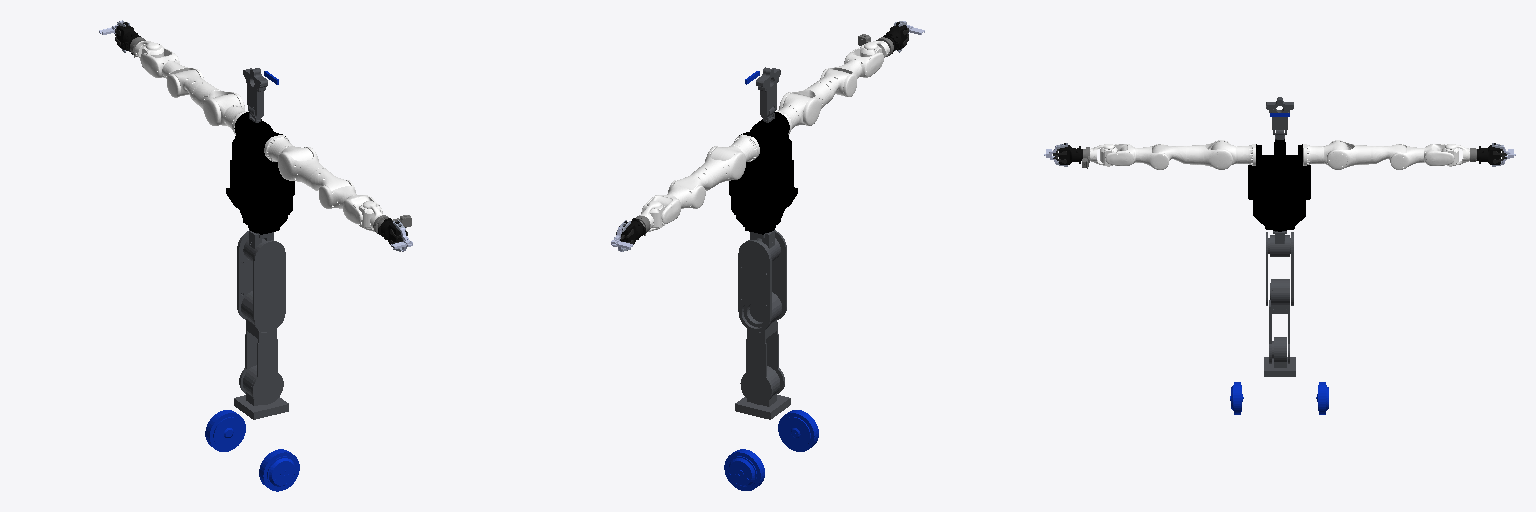
--- What the picture shows (computed from the rendered views, not written in the file) ---
3 views of the same robot in one strip: view 1: azimuth 30°, elevation 25°; view 2: azimuth 150°, elevation 25°; view 3: azimuth 270°, elevation 25° (orthographic).
Robot: robot_model — 57 links, 56 joints (33 revolute, 2 prismatic, 21 fixed); root link world; default pose: every joint at zero.
Visible links, largest first — view 1: Trunk_Link4, Trunk_Link2, Trunk_Link1, chassis_right_Link, chassis_left_Link, trunk_base_link, AR5_5_07R_link2, AR5_5_07L_link2, Head_Link2, AR5_5_07R_link4, AR5_5_07L_link5, AR5_5_07L_link4 (+2 smaller); view 2: Trunk_Link4, Trunk_Link2, Trunk_Link1, chassis_right_Link, chassis_left_Link, trunk_base_link, AR5_5_07L_link2, AR5_5_07R_link2, Head_Link2, AR5_5_07L_link4, AR5_5_07R_link5, AR5_5_07R_link4 (+2 smaller); view 3: Trunk_Link4, Trunk_Link1, AR5_5_07L_link2, AR5_5_07R_link2, trunk_base_link, AR5_5_07L_link4, AR5_5_07R_link4, AR5_5_07R_link5, AR5_5_07L_link5.
Link boxes in pixels (left/top/right/bottom): Trunk_Link4: left=226, top=112, right=294, bottom=234; Trunk_Link2: left=237, top=231, right=285, bottom=331; Trunk_Link1: left=239, top=291, right=283, bottom=404; chassis_right_Link: left=259, top=449, right=299, bottom=491; chassis_left_Link: left=205, top=410, right=245, bottom=451; trunk_base_link: left=234, top=365, right=288, bottom=419; AR5_5_07R_link2: left=278, top=147, right=325, bottom=187; AR5_5_07L_link2: left=192, top=82, right=244, bottom=125; Head_Link2: left=243, top=68, right=267, bottom=118; AR5_5_07R_link4: left=319, top=180, right=356, bottom=208; AR5_5_07L_link5: left=140, top=48, right=179, bottom=77; AR5_5_07L_link4: left=162, top=60, right=203, bottom=97; Trunk_Link4: left=729, top=112, right=797, bottom=234; Trunk_Link2: left=738, top=230, right=786, bottom=331; Trunk_Link1: left=740, top=292, right=784, bottom=404; chassis_right_Link: left=778, top=410, right=818, bottom=451; chassis_left_Link: left=724, top=449, right=764, bottom=490; trunk_base_link: left=735, top=366, right=790, bottom=419; AR5_5_07L_link2: left=698, top=146, right=745, bottom=187; AR5_5_07R_link2: left=779, top=82, right=831, bottom=125; Head_Link2: left=756, top=67, right=780, bottom=117; AR5_5_07L_link4: left=667, top=180, right=705, bottom=208; AR5_5_07R_link5: left=844, top=48, right=883, bottom=77; AR5_5_07R_link4: left=820, top=61, right=861, bottom=96; Trunk_Link4: left=1248, top=139, right=1310, bottom=231; Trunk_Link1: left=1269, top=279, right=1289, bottom=363; AR5_5_07L_link2: left=1327, top=140, right=1372, bottom=169; AR5_5_07R_link2: left=1187, top=140, right=1232, bottom=169; trunk_base_link: left=1264, top=337, right=1295, bottom=376; AR5_5_07L_link4: left=1390, top=144, right=1425, bottom=169; AR5_5_07R_link4: left=1134, top=144, right=1168, bottom=169; AR5_5_07R_link5: left=1105, top=144, right=1135, bottom=165; AR5_5_07L_link5: left=1424, top=144, right=1454, bottom=165.
Size in the robot's own frame: 0.248 by 2.39 by 1.77 metres.
Meshes: 41 distinct files referenced, 45 mesh visuals loaded (35 binary STL, 1 Collada DAE); not drawn: 5 (reference not matched to a file when rendering).

URDF robot description (robot_model):
<?xml version="1.0"?>
<!-- This URDF was automatically created by SolidWorks to URDF Exporter! Originally created by Stephen Brawner ([email redacted]) 
     Commit Version: 1.6.0-4-g7f85cfe  Build Version: 1.6.7995.38578
     For more information, please see http://wiki.ros.org/sw_urdf_exporter -->

<robot
  name="robot_model">
  <gazebo>
    <plugin name="gazebo_ros_control" filename="libgazebo_ros_control.so">
      <robotNamespace>/</robotNamespace>
    </plugin>
  </gazebo>
  
  <!-- Material definitions -->
  <material name="orange">
    <color rgba="0.5 0.0 0.5 1.0"/>
  </material>
  <material name="chassis_silver">
    <color rgba="0.78 0.80 0.82 1.0"/> 
  </material>
  <material name="body_color">
    <color rgba="0.50 0.60 0.10 1.0"/> 
  </material>
  <material name="metal_dark">
    <color rgba="0.35 0.36 0.38 1.0"/> 
  </material>
  <material name="mat_black">
    <color rgba="0.05 0.05 0.06 1.0"/> 
  </material>
  <material name="accent_blue">
    <color rgba="0.06 0.24 0.80 1.0"/> 
  </material>
  <material name="white">
    <color rgba="1.0 1.0 1.0 1.0"/>
  </material>

  <!-- ============================================================ -->
  <!-- Virtual Mobile Base Joints -->
  <!-- These joints allow the robot chassis to move in the XY plane -->
  <!-- and rotate around the Z axis (yaw) relative to the world frame -->
  <!-- ============================================================ -->
  
  <link name="world"/>
  
  <!-- Virtual link for X translation -->
  <link name="virtual_x_link">
    <inertial>
      <origin xyz="0 0 0" rpy="0 0 0"/>
      <mass value="0.001"/>
      <inertia ixx="0.0001" ixy="0" ixz="0" iyy="0.0001" iyz="0" izz="0.0001"/>
    </inertial>
  </link>
  
  <!-- Virtual link for Y translation -->
  <link name="virtual_y_link">
    <inertial>
      <origin xyz="0 0 0" rpy="0 0 0"/>
      <mass value="0.001"/>
      <inertia ixx="0.0001" ixy="0" ixz="0" iyy="0.0001" iyz="0" izz="0.0001"/>
    </inertial>
  </link>
  
  <!-- Virtual link for Yaw rotation -->
  <link name="virtual_yaw_link">
    <inertial>
      <origin xyz="0 0 0" rpy="0 0 0"/>
      <mass value="0.001"/>
      <inertia ixx="0.0001" ixy="0" ixz="0" iyy="0.0001" iyz="0" izz="0.0001"/>
    </inertial>
  </link>
  
  <!-- Joint 1: world -> virtual_x_link (X translation) -->
  <joint name="virtual_x_joint" type="prismatic">
    <parent link="world"/>
    <child link="virtual_x_link"/>
    <origin xyz="0 0 0" rpy="0 0 0"/>
    <axis xyz="1 0 0"/>
    <limit lower="-100" upper="100" effort="1000" velocity="10"/>
  </joint>
  
  <!-- Joint 2: virtual_x_link -> virtual_y_link (Y translation) -->
  <joint name="virtual_y_joint" type="prismatic">
    <parent link="virtual_x_link"/>
    <child link="virtual_y_link"/>
    <origin xyz="0 0 0" rpy="0 0 0"/>
    <axis xyz="0 1 0"/>
    <limit lower="-100" upper="100" effort="1000" velocity="10"/>
  </joint>
  
  <!-- Joint 3: virtual_y_link -> virtual_yaw_link (Yaw rotation) -->
  <joint name="virtual_yaw_joint" type="revolute">
    <parent link="virtual_y_link"/>
    <child link="virtual_yaw_link"/>
    <origin xyz="0 0 0.265" rpy="0 0 0"/>
    <axis xyz="0 0 1"/>
    <limit lower="-3.14159" upper="3.14159" effort="1000" velocity="3.14"/>
  </joint>
  
  <!-- Fixed joint from virtual_yaw_link to chassis_base_link -->
  <joint name="chassis_base_joint" type="fixed">
    <parent link="virtual_yaw_link"/>
    <child link="chassis_base_link"/>
    <origin xyz="0 0 0" rpy="0 0 0"/>
  </joint>
  
  <link
    name="chassis_base_link">
    <inertial>
      <origin
        xyz="-0.027237 -0.00044706 -0.13065"
        rpy="0 0 0" />
      <mass
        value="18.789" />
      <inertia
        ixx="0.32103"
        ixy="-0.00088596"
        ixz="0.0070426"
        iyy="0.35279"
        iyz="0.00010881"
        izz="0.63543" />
    </inertial>
    <visual>
      <origin
        xyz="0 0 0"
        rpy="0 0 0" />
      <geometry>
        <mesh
          filename="package://robot_model/meshes/chassis_base_link.STL" />
      </geometry>
      <material name="mat_black"/>
    </visual>
    <collision>
      <origin
        xyz="0 0 0"
        rpy="0 0 0" />
      <geometry>
        <mesh
          filename="package://robot_model/meshes/chassis_base_link.STL" />
      </geometry>
    </collision>
  </link>
  <link
    name="chassis_left_Link">
    <inertial>
      <origin
        xyz="4.996E-16 0.033322 0"
        rpy="0 0 0" />
      <mass
        value="2.8637" />
      <inertia
        ixx="0.0051541"
        ixy="-3.3608E-17"
        ixz="-1.1703E-17"
        iyy="0.0090798"
        iyz="-5.0051E-18"
        izz="0.0051541" />
    </inertial>
    <visual>
      <origin
        xyz="0 0 0"
        rpy="0 0 0" />
      <geometry>
        <mesh
          filename="package://robot_model/meshes/chassis_left_Link.STL" />
      </geometry>
      <material name="accent_blue"/>
    </visual>
    <collision>
      <origin
        xyz="0 0 0"
        rpy="0 0 0" />
      <geometry>
        <mesh
          filename="package://robot_model/meshes/chassis_left_Link.STL" />
      </geometry>
    </collision>
  </link>
  <joint
    name="chassis_left_Joint"
    type="fixed">
    <origin
      xyz="-0.041 0.1846 -0.1775"
      rpy="0 0 0" />
    <parent
      link="chassis_base_link" />
    <child
      link="chassis_left_Link" />
    <axis
      xyz="0 -1 0" />
  </joint>
  <link
    name="chassis_right_Link">
    <inertial>
      <origin
        xyz="-5.2736E-16 -0.033322 1.1102E-16"
        rpy="0 0 0" />
      <mass
        value="2.8637" />
      <inertia
        ixx="0.0051541"
        ixy="-3.3734E-17"
        ixz="1.0772E-17"
        iyy="0.0090798"
        iyz="5.0454E-18"
        izz="0.0051541" />
    </inertial>
    <visual>
      <origin
        xyz="0 0 0"
        rpy="0 0 0" />
      <geometry>
        <mesh
          filename="package://robot_model/meshes/chassis_right_Link.STL" />
      </geometry>
      <material name="accent_blue"/>
    </visual>
    <collision>
      <origin
        xyz="0 0 0"
        rpy="0 0 0" />
      <geometry>
        <mesh
          filename="package://robot_model/meshes/chassis_right_Link.STL" />
      </geometry>
    </collision>
  </link>
  <joint
    name="chassis_right_Joint"
    type="fixed">
    <origin
      xyz="-0.041 -0.1846 -0.1775"
      rpy="0 0 0" />
    <parent
      link="chassis_base_link" />
    <child
      link="chassis_right_Link" />
    <axis
      xyz="0 1 0" />
  </joint>
  <link
    name="trunk_base_link">
    <inertial>
      <origin
        xyz="-3.32739807928917E-11 0.00108475904249383 0.0646969570751819"
        rpy="0 0 0" />
      <mass
        value="5.2916725383757" />
      <inertia
        ixx="0.0204718891237549"
        ixy="4.85115711850459E-12"
        ixz="-6.41065846332626E-12"
        iyy="0.0225397707546832"
        iyz="-0.000166583637729049"
        izz="0.014637715325779" />
    </inertial>
    <visual>
      <origin
        xyz="0 0 0"
        rpy="0 0 0" />
      <geometry>
        <mesh
          filename="package://robot_model/meshes/base_link.STL" />
      </geometry>
      <material name="metal_dark"/>
    </visual>
    <collision>
      <origin
        xyz="0 0 0"
        rpy="0 0 0" />
      <geometry>
        <mesh
          filename="package://robot_model/meshes/base_link.STL" />
      </geometry>
    </collision>
  </link>
  <joint
    name="trunk_base_link_Joint"
    type="fixed">
    <origin
      xyz="0 0 0.0"
      rpy="0 0 0" />
    <parent
      link="chassis_base_link" />
    <child
      link="trunk_base_link" />
    <axis
      xyz="0 1 0" />
  </joint>
  <link
    name="Trunk_Link1">
    <inertial>
      <origin
        xyz="-2.00192633256768E-06 0.037648370852891 0.229389705349819"
        rpy="0 0 0" />
      <mass
        value="6.12532979899165" />
      <inertia
        ixx="0.107502593877351"
        ixy="-4.33428423533899E-07"
        ixz="1.55820301705163E-06"
        iyy="0.105834274643522"
        iyz="0.000834756143947899"
        izz="0.0138000958638935" />
    </inertial>
    <visual>
      <origin
        xyz="0 0 0"
        rpy="0 0 0" />
      <geometry>
        <mesh
          filename="package://robot_model/meshes/Trunk_Link1.STL" />
      </geometry>
      <material name="metal_dark"/>
    </visual>
    <collision>
      <origin
        xyz="0 0 0"
        rpy="0 0 0" />
      <geometry>
        <mesh
          filename="package://robot_model/meshes/Trunk_Link1.STL" />
      </geometry>
    </collision>
  </link>
  <joint
    name="Trunk_Joint1"
    type="revolute">
    <origin
      xyz="0 -0.0393 0.112"
      rpy="0 0 0" />
    <parent
      link="trunk_base_link" />
    <child
      link="Trunk_Link1" />
    <axis
      xyz="0 -1 0" />
    <limit
      lower="-1.57"
      upper="1.57"
      effort="300"
      velocity="15" />
    <dynamics
      damping="0.01"
      friction="0.1" />
  </joint>
  <link
    name="Trunk_Link2">
    <inertial>
      <origin
        xyz="6.93889390390723E-17 0.0527983940700079 0.181464564928581"
        rpy="0 0 0" />
      <mass
        value="4.75279692361668" />
      <inertia
        ixx="0.0610885753910733"
        ixy="-1.19536966653269E-18"
        ixz="-7.76730748312509E-18"
        iyy="0.0529989544087246"
        iyz="-0.00179309730212265"
        izz="0.0201482952717101" />
    </inertial>
    <visual>
      <origin
        xyz="0 0 0"
        rpy="0 0 0" />
      <geometry>
        <mesh
          filename="package://robot_model/meshes/Trunk_Link2.STL" />
      </geometry>
      <material name="metal_dark"/>
    </visual>
    <collision>
      <origin
        xyz="0 0 0"
        rpy="0 0 0" />
      <geometry>
        <mesh
          filename="package://robot_model/meshes/Trunk_Link2.STL" />
      </geometry>
    </collision>
  </link>
  <joint
    name="Trunk_Joint2"
    type="revolute">
    <origin
      xyz="0 -0.013 0.327"
      rpy="0 0 0" />
    <parent
      link="Trunk_Link1" />
    <child
      link="Trunk_Link2" />
    <axis
      xyz="0 1 0" />
    <limit
      lower="-1.57"
      upper="1.57"
      effort="300"
      velocity="15" />
    <dynamics
      damping="0.01"
      friction="0.1" />
  </joint>
  <link
    name="Trunk_Link3">
    <inertial>
      <origin
        xyz="1.69489079715479E-09 -0.0494999971490837 0.0299182901675204"
        rpy="0 0 0" />
      <mass
        value="1.40110394589238" />
      <inertia
        ixx="0.0039279902713771"
        ixy="-9.37102716068198E-12"
        ixz="1.60664128414939E-11"
        iyy="0.00456822897709997"
        iyz="-9.20676483539881E-11"
        izz="0.00233089385500014" />
    </inertial>
    <visual>
      <origin
        xyz="0 0 0"
        rpy="0 0 0" />
      <geometry>
        <mesh
          filename="package://robot_model/meshes/Trunk_Link3.STL" />
      </geometry>
      <material name="metal_dark"/>
    </visual>
    <collision>
      <origin
        xyz="0 0 0"
        rpy="0 0 0" />
      <geometry>
        <mesh
          filename="package://robot_model/meshes/Trunk_Link3.STL" />
      </geometry>
    </collision>
  </link>
  <joint
    name="Trunk_Joint3"
    type="revolute">
    <origin
      xyz="0 0.1018 0.255"
      rpy="0 0 0" />
    <parent
      link="Trunk_Link2" />
    <child
      link="Trunk_Link3" />
    <axis
      xyz="0 -1 0" />
    <limit
      lower="-1.57"
      upper="1.57"
      effort="300"
      velocity="15" />
    <dynamics
      damping="0.01"
      friction="0.1" />
  </joint>
  <link
    name="Trunk_Link4">
    <inertial>
      <origin
        xyz="-0.00657929165109954 2.61392266098781E-06 0.218245992580224"
        rpy="0 0 0" />
      <mass
        value="4.66047184585229" />
      <inertia
        ixx="0.0788874639537613"
        ixy="5.46530938736686E-10"
        ixz="0.00286825206797472"
        iyy="0.0515041942141216"
        iyz="3.46275348004213E-07"
        izz="0.0448953474115628" />
    </inertial>
    <visual>
      <origin
        xyz="0 0 0"
        rpy="0 0 0" />
      <geometry>
        <mesh
          filename="package://robot_model/meshes/Trunk_Link4.STL" />
      </geometry>
      <material name="invisible">
        <color rgba="0 0 0 0"/>
      </material>
    </visual>
    <collision>
      <origin
        xyz="0 0 0"
        rpy="0 0 0" />
      <geometry>
        <mesh
          filename="package://robot_model/meshes/Trunk_Link4.STL" />
      </geometry>
    </collision>
  </link>
  <joint
    name="Trunk_Joint4"
    type="revolute">
    <origin
      xyz="0 -0.0495 0.1005"
      rpy="0 0 0" />
    <parent
      link="Trunk_Link3" />
    <child
      link="Trunk_Link4" />
    <axis
      xyz="0 0 1" />
    <limit
      lower="-1.57"
      upper="1.57"
      effort="300"
      velocity="15" />
    <dynamics
      damping="0.01"
      friction="0.1" />
  </joint>
  <!-- 前后躯干 -->
  <link
    name="Trunk_Forward_Link4">
    <visual>
      <origin
        xyz="0 0 0"
        rpy="0 0 0" />
      <geometry>
        <mesh
          filename="package://robot_model/meshes/trunkforward.dae" />
      </geometry>
    </visual>
  </link>
  <joint
    name="Trunk_Forward_Joint4"
    type="fixed">
    <origin
      xyz="0.05 0.0 0.25"
      rpy="0 0 1.5708" />
    <parent
      link="Trunk_Link4" />
    <child
      link="Trunk_Forward_Link4" />
  </joint>
  <link
    name="Trunk_Back_Link4">
    <visual>
      <origin
        xyz="0 0 0"
        rpy="0 0 0" />
      <geometry>
        <mesh
          filename="package://robot_model/meshes/trunkback.dae" />
      </geometry>
    </visual>
  </link>
  <joint
    name="Trunk_Back_Joint4"
    type="fixed">
    <origin
      xyz="-0.1 -0.0 0.23"
      rpy="0 0 1.5708" />
    <parent
      link="Trunk_Link4" />
    <child
      link="Trunk_Back_Link4" />
  </joint>
  <link
    name="Head_Link1">
    <inertial>
      <origin
        xyz="-0.00027121 1.4012E-05 0.031017"
        rpy="0 0 0" />
      <mass
        value="0.25094" />
      <inertia
        ixx="6.0757E-05"
        ixy="-1.1281E-09"
        ixz="3.8393E-07"
        iyy="4.1675E-05"
        iyz="1.0479E-09"
        izz="6.523E-05" />
    </inertial>
    <visual>
      <origin
        xyz="0 0 0"
        rpy="0 0 0" />
      <geometry>
        <mesh
          filename="package://robot_model/meshes/Head_Link1.STL" />
      </geometry>
      <material name="metal_dark"/>
    </visual>
    <collision>
      <origin
        xyz="0 0 0"
        rpy="0 0 0" />
      <geometry>
        <mesh
          filename="package://robot_model/meshes/Head_Link1.STL" />
      </geometry>
    </collision>
  </link>
  <joint
    name="Head_Joint1"
    type="revolute">
    <origin
      xyz="-0.026 0 0.487"
      rpy="0 0 0" />
    <parent
      link="Trunk_Link4" />
    <child
      link="Head_Link1" />
    <axis
      xyz="0 0 1" />
    <limit
      lower="-1.57"
      upper="1.57"
      effort="15"
      velocity="15" />
    <dynamics
      damping="0.01"
      friction="0.1" />
  </joint>
  <link
    name="Head_Link2">
    <inertial>
      <origin
        xyz="1.3878E-16 -0.0243 0.093841"
        rpy="0 0 0" />
      <mass
        value="1.2686" />
      <inertia
        ixx="0.0042697"
        ixy="-4.6785E-20"
        ixz="-5.4624E-19"
        iyy="0.0031772"
        iyz="2.312E-19"
        izz="0.0013394" />
    </inertial>
    <visual>
      <origin
        xyz="0 0 0"
        rpy="0 0 0" />
      <geometry>
        <mesh
          filename="package://robot_model/meshes/Head_Link2.STL" />
      </geometry>
      <material name="metal_dark"/>
    </visual>
    <collision>
      <origin
        xyz="0 0 0"
        rpy="0 0 0" />
      <geometry>
        <mesh
          filename="package://robot_model/meshes/Head_Link2.STL" />
      </geometry>
    </collision>
  </link>
  <joint
    name="Head_Joint2"
    type="revolute">
    <origin
      xyz="0 0.0243 0.041"
      rpy="0 0 0" />
    <parent
      link="Head_Link1" />
    <child
      link="Head_Link2" />
    <axis
      xyz="0 -1 0" />
    <limit
      lower="-1.57"
      upper="1.57"
      effort="15"
      velocity="15" />
    <dynamics
      damping="0.01"
      friction="0.1" />
  </joint>
  <link
    name="Head_Forward_Link">
    <visual>
      <origin
        xyz="0 0 0"
        rpy="0 0 0" />
      <geometry>
        <mesh
          filename="package://robot_model/meshes/headforward.dae" />
      </geometry>
    </visual>
  </link>
  <joint
    name="Head_Forward_Joint"
    type="fixed">
    <origin
      xyz="0.0495 -0.023 0.115"
      rpy="0 0 1.5708" />
    <parent
      link="Head_Link2" />
    <child
      link="Head_Forward_Link" />
  </joint>
  <link
    name="Head_Eye_Link">
    <visual>
      <origin
        xyz="0 0 0"
        rpy="0 0 0" />
      <geometry>
        <box size="0.01 0.1 0.02" />
      </geometry>
      <material name="accent_blue"/>
    </visual>
  </link>
  <joint
    name="Head_Eye_Joint"
    type="fixed">
    <origin
      xyz="0.0745 -0.0235 0.13"
      rpy="0 0 0" />
    <parent
      link="Head_Link2" />
    <child
      link="Head_Eye_Link" />
  </joint>
  <link
    name="Head_Back_Link">
    <visual>
      <origin
        xyz="0 0 0"
        rpy="0 0 0" />
      <geometry>
        <mesh
          filename="package://robot_model/meshes/headback.dae" />
      </geometry>
    </visual>
  </link>
  <joint
    name="Head_Back_Joint"
    type="fixed">
    <origin
      xyz="-0.01 -0.024 0.1"
      rpy="0 0 1.57" />
    <parent
      link="Head_Link2" />
    <child
      link="Head_Back_Link" />
  </joint>
  <joint name="left_fixed" type="fixed">
    <parent link="Trunk_Link4"/>
    <child link="AR5_5_07L_base"/>
    <origin xyz="0.0 0.12 0.41" rpy="-1.57 1.57 0"/>
  </joint>
  <link name="AR5_5_07L_base">
    <visual>
      <geometry>
        <mesh filename="package://robot_model/meshes/AR5_P_L/AR5_5_07L_base.stl" scale="0.001 0.001 0.001"/>
      </geometry>
      <origin rpy="0 0 0" xyz="0.0 0.0 0.0"/>
      <material name="white"/>
    </visual>
    <inertial>
      <mass value="2.66"/>
      <inertia ixx="0.00484214" ixy="0.00000117" ixz="-0.00000044" iyy="0.00444297" iyz="-0.00000074" izz="0.00427071"/>
      <origin rpy="0 0 0" xyz="1.6e-05 -0.0006979999999999999 0.168185"/>
    </inertial>
    <collision>
      <geometry>
        <mesh filename="package://robot_model/meshes/AR5_P_L/AR5_5_07L_base.stl" scale="0.001 0.001 0.001"/>
      </geometry>
      <origin rpy="0 0 0" xyz="0.0 0.0 0.0"/>
    </collision>
  </link>
  <joint name="AR5_5_07L_joint_1" type="revolute">
    <parent link="AR5_5_07L_base"/>
    <child link="AR5_5_07L_link1"/>
    <limit effort="108" lower="-3.07" upper="3.07" velocity="3.490658503988659"/>
    <axis xyz="0 0 1"/>
    <origin rpy="0 0 0" xyz="0.0 0.0 0.0"/>
  </joint>
  <transmission name="ltran1">
    <type>transmission_interface/SimpleTransmission</type>
    <joint name="AR5_5_07L_joint_1">
      <hardwareInterface>EffortJointInterface</hardwareInterface>
    </joint>
    <actuator name="lmotor1">
      <hardwareInterface>EffortJointInterface</hardwareInterface>
      <mechanicalReduction>1</mechanicalReduction>
    </actuator>
  </transmission>
  <!--link 1-->
  <link name="AR5_5_07L_link1">
    <visual>
      <geometry>
        <mesh filename="package://robot_model/meshes/AR5_P_L/AR5_5_07L_link1.stl" scale="0.001 0.001 0.001"/>
      </geometry>
      <origin rpy="0 0 0" xyz="0 0 0"/>
      <material name="white"/>
    </visual>
    <inertial>
      <mass value="2.66"/>
      <inertia ixx="0.00484214" ixy="0.00000117" ixz="-0.00000044" iyy="0.00444297" iyz="-0.00000074" izz="0.00427071"/>
      <origin rpy="0 0 0" xyz="1.6e-05 -0.0006979999999999999 0.168185"/>
    </inertial>
    <collision>
      <geometry>
        <mesh filename="package://robot_model/meshes/AR5_P_L/AR5_5_07L_link1.stl" scale="0.001 0.001 0.001"/>
      </geometry>
      <origin rpy="0 0 0" xyz="0 0 0"/>
    </collision>
  </link>
  <joint name="AR5_5_07L_joint_2" type="revolute">
    <parent link="AR5_5_07L_link1"/>
    <child link="AR5_5_07L_link2"/>
    <limit effort="108" lower="-2.06" upper="2.06" velocity="3.490658503988659"/>
    <axis xyz="0 1 0"/>
    <origin rpy="0 0 0" xyz="0.0 0.0 0.1745"/>
  </joint>
  <transmission name="ltran2">
    <type>transmission_interface/SimpleTransmission</type>
    <joint name="AR5_5_07L_joint_2">
      <hardwareInterface>EffortJointInterface</hardwareInterface>
    </joint>
    <actuator name="lmotor2">
      <hardwareInterface>EffortJointInterface</hardwareInterface>
      <mechanicalReduction>1</mechanicalReduction>
    </actuator>
  </transmission>
  <!--link 2-->
  <link name="AR5_5_07L_link2">
    <visual>
      <geometry>
        <mesh filename="package://robot_model/meshes/AR5_P_L/AR5_5_07L_link2.stl" scale="0.001 0.001 0.001"/>
      </geometry>
      <origin rpy="0 0 0" xyz="0 0 0.0"/>
      <material name="white"/>
    </visual>
    <inertial>
      <mass value="2.3"/>
      <inertia ixx="0.01155422" ixy="0.00000028" ixz="-0.00000103" iyy="0.00995119" iyz="0.00083831" izz="0.00437076"/>
      <origin rpy="0 0 0" xyz="4.4999999999999996e-05 -0.002985 0.102801"/>
    </inertial>
    <collision>
      <geometry>
        <mesh filename="package://robot_model/meshes/AR5_P_L/AR5_5_07L_link2.stl" scale="0.001 0.001 0.001"/>
      </geometry>
      <origin rpy="0 0 0" xyz="0 0 0.0"/>
    </collision>
  </link>
  <joint name="AR5_5_07L_joint_3" type="revolute">
    <parent link="AR5_5_07L_link2"/>
    <child link="AR5_5_07L_link3"/>
    <limit effort="66" lower="-3.07" upper="3.07" velocity="4.71238898038469"/>
    <axis xyz="0 0 1"/>
    <origin rpy="0 0 0" xyz="0.0 0.0 0.314"/>
  </joint>
  <transmission name="ltran3">
    <type>transmission_interface/SimpleTransmission</type>
    <joint name="AR5_5_07L_joint_3">
      <hardwareInterface>EffortJointInterface</hardwareInterface>
    </joint>
    <actuator name="lmotor3">
      <hardwareInterface>EffortJointInterface</hardwareInterface>
      <mechanicalReduction>1</mechanicalReduction>
    </actuator>
  </transmission>
  <!--link 3-->
  <link name="AR5_5_07L_link3">
    <visual>
      <geometry>
        <mesh filename="package://robot_model/meshes/AR5_P_L/AR5_5_07L_link3.stl" scale="0.001 0.001 0.001"/>
      </geometry>
      <origin rpy="0 0 0" xyz="0 0 0"/>
      <material name="white"/>
    </visual>
    <inertial>
      <mass value="1.8"/>
      <inertia ixx="0.00478231" ixy="0.00001317" ixz="0.00033105" iyy="0.00432575" iyz="0.00002132" izz="0.00254969"/>
      <origin rpy="0 0 0" xyz="0.0073 -0.001371 -0.01502"/>
    </inertial>
    <collision>
      <geometry>
        <mesh filename="package://robot_model/meshes/AR5_P_L/AR5_5_07L_link3.stl" scale="0.001 0.001 0.001"/>
      </geometry>
      <origin rpy="0 0 0" xyz="0 0 0"/>
    </collision>
  </link>
  <joint name="AR5_5_07L_joint_4" type="revolute">
    <parent link="AR5_5_07L_link3"/>
    <child link="AR5_5_07L_link4"/>
    <limit effort="66" lower="-1.01" upper="2.5" velocity="5.235987755982989"/>
    <!--     lower="-1.0472" upper="1.0472" -->
    <axis xyz="0 1 0"/>
    <!--     <origin rpy="0 0 0" xyz=0.0105 0.0 0.0/> -->
    <origin rpy="0 0 0" xyz="0.0105 0.0 0.0"/>
  </joint>
  <transmission name="ltran4">
    <type>transmission_interface/SimpleTransmission</type>
    <joint name="AR5_5_07L_joint_4">
      <hardwareInterface>EffortJointInterface</hardwareInterface>
    </joint>
    <actuator name="lmotor4">
      <hardwareInterface>EffortJointInterface</hardwareInterface>
      <mechanicalReduction>1</mechanicalReduction>
    </actuator>
  </transmission>
  <!--link 4-->
  <link name="AR5_5_07L_link4">
    <visual>
      <geometry>
        <mesh filename="package://robot_model/meshes/AR5_P_L/AR5_5_07L_link4.stl" scale="0.001 0.001 0.001"/>
      </geometry>
      <origin rpy="0 0 0" xyz="0.0 0.0 0.0"/>
      <material name="white"/>
    </visual>
    <inertial>
      <mass value="1.13"/>
      <inertia ixx="0.00352152" ixy="-0.00002411" ixz="-0.00015046" iyy="0.00266275" iyz="0.00025447" izz="0.00186915"/>
      <origin rpy="0 0 0" xyz="-0.007816 -0.002536 0.066782"/>
    </inertial>
    <collision>
      <geometry>
        <mesh filename="package://robot_model/meshes/AR5_P_L/AR5_5_07L_link4.stl" scale="0.001 0.001 0.001"/>
      </geometry>
      <origin rpy="0 0 0" xyz="0.0 0.0 0.0"/>
    </collision>
  </link>
  <joint name="AR5_5_07L_joint_5" type="revolute">
    <parent link="AR5_5_07L_link4"/>
    <child link="AR5_5_07L_link5"/>
    <limit effort="19" lower="-3.07" upper="3.07" velocity="4.1887902047863905"/>
    <axis xyz="0 0 1"/>
    <origin rpy="0 0 0" xyz="-0.0105 0.0 0.26"/>
  </joint>
  <transmission name="ltran5">
    <type>transmission_interface/SimpleTransmission</type>
    <joint name="AR5_5_07L_joint_5">
      <hardwareInterface>EffortJointInterface</hardwareInterface>
    </joint>
    <actuator name="lmotor5">
      <hardwareInterface>EffortJointInterface</hardwareInterface>
      <mechanicalReduction>1</mechanicalReduction>
    </actuator>
  </transmission>
  <!--link 5-->
  <link name="AR5_5_07L_link5">
    <visual>
      <geometry>
        <mesh filename="package://robot_model/meshes/AR5_P_L/AR5_5_07L_link5.stl" scale="0.001 0.001 0.001"/>
      </geometry>
      <origin rpy="0 0 0" xyz="0 0 0"/>
      <material name="white"/>
    </visual>
    <inertial>
      <mass value="1.19"/>
      <inertia ixx="0.00238316" ixy="0.00001280" ixz="0.00001311" iyy="0.00195453" iyz="0.00001458" izz="0.00149979"/>
      <origin rpy="0 0 0" xyz="0.00023400000000000002 0.002477 -0.08120000000000001"/>
    </inertial>
    <collision>
      <geometry>
        <mesh filename="package://robot_model/meshes/AR5_P_L/AR5_5_07L_link5.stl" scale="0.001 0.001 0.001"/>
      </geometry>
      <origin rpy="0 0 0" xyz="0 0 0"/>
    </collision>
  </link>
  <joint name="AR5_5_07L_joint_6" type="revolute">
    <parent link="AR5_5_07L_link5"/>
    <child link="AR5_5_07L_link6"/>
    <limit effort="19" lower="-1.01" upper="1.01" velocity="4.1887902047863905"/>
    <axis xyz="0 1 0"/>
    <origin rpy="0.0 0.0 0" xyz="0.0 0.0 0.0"/>
  </joint>
  <transmission name="ltran6">
    <type>transmission_interface/SimpleTransmission</type>
    <joint name="AR5_5_07L_joint_6">
      <hardwareInterface>EffortJointInterface</hardwareInterface>
    </joint>
    <actuator name="lmotor6">
      <hardwareInterface>EffortJointInterface</hardwareInterface>
      <mechanicalReduction>1</mechanicalReduction>
    </actuator>
  </transmission>
  <!--link 6-->
  <link name="AR5_5_07L_link6">
    <visual>
      <geometry>
        <mesh filename="package://robot_model/meshes/AR5_P_L/AR5_5_07L_link6.stl" scale="0.001 0.001 0.001"/>
      </geometry>
      <origin rpy="0 0 0" xyz="0 0 0"/>
      <material name="white"/>
    </visual>
    <inertial>
      <mass value="0.82"/>
      <inertia ixx="0.00060715" ixy="-0.00000829" ixz="0.00000078" iyy="0.00065671" iyz="0.00000017" izz="0.00066165"/>
      <origin rpy="0 0 0" xyz="0.0072039999999999995 0.0007149999999999999 -4e-05"/>
    </inertial>
    <collision>
      <geometry>
        <mesh filename="package://robot_model/meshes/AR5_P_L/AR5_5_07L_link6.stl" scale="0.001 0.001 0.001"/>
      </geometry>
      <origin rpy="0 0 0" xyz="0 0 0"/>
    </collision>
  </link>
  <joint name="AR5_5_07L_joint_7" type="revolute">
    <parent link="AR5_5_07L_link6"/>
    <child link="AR5_5_07L_link7"/>
    <limit effort="19" lower="-1.01" upper="1.01" velocity="4.1887902047863905"/>
    <axis xyz="1 0 0"/>
    <origin rpy="0.0 0.0 0" xyz="0.0 0.0 0.0"/>
  </joint>
  <transmission name="ltran7">
    <type>transmission_interface/SimpleTransmission</type>
    <joint name="AR5_5_07L_joint_7">
      <hardwareInterface>EffortJointInterface</hardwareInterface>
    </joint>
    <actuator name="lmotor7">
      <hardwareInterface>EffortJointInterface</hardwareInterface>
      <mechanicalReduction>1</mechanicalReduction>
    </actuator>
  </transmission>
  <!--link 7-->
  <link name="AR5_5_07L_link7">
    <visual>
      <geometry>
        <mesh filename="package://robot_model/meshes/AR5_P_L/AR5_5_07L_link7.stl" scale="0.001 0.001 0.001"/>
      </geometry>
      <origin rpy="0 0 0" xyz="0.0 0.0 0.0"/>
      <material name="white"/>
    </visual>
    <inertial>
      <mass value="0.32"/>
      <inertia ixx="0.00043581" ixy="0.00000007" ixz="0.00001201" iyy="0.00067064" iyz="0.00000188" izz="0.00041740"/>
      <origin rpy="0 0 0" xyz="-0.002337 0.000307 0.051645"/>
    </inertial>
    <collision>
      <geometry>
        <mesh filename="package://robot_model/meshes/AR5_P_L/AR5_5_07L_link7.stl" scale="0.001 0.001 0.001"/>
      </geometry>
      <origin rpy="0 0 0" xyz="0.0 0.0 0.0"/>
    </collision>
  </link>
  <joint name="AR5_5_07L_tcp_joint" type="fixed">
    <parent link="AR5_5_07L_link7"/>
    <child link="AR5_5_07L_tcp"/>
    <origin rpy="0 0 0" xyz="0.0 0.0 0.092"/>
  </joint>
  <link name="AR5_5_07L_tcp">
    <inertial>
      <mass value="0.0"/>
      <inertia ixx="1e-6" ixy="0" ixz="0" iyy="1e-6" iyz="0" izz="1e-6"/>
    </inertial>
  </link>

  <joint name="right_fixed" type="fixed">
    <parent link="Trunk_Link4"/>
    <child link="AR5_5_07R_base"/>
    <origin xyz="0.0 -0.12 0.41" rpy="1.57 1.57 0"/>
  </joint>
  <link name="AR5_5_07R_base">
    <visual>
      <geometry>
        <mesh filename="package://robot_model/meshes/AR5_P_R/AR5_5_07R_base.stl" scale="0.001 0.001 0.001"/>
      </geometry>
      <origin rpy="0 0 0" xyz="0.0 0.0 0.0"/>
      <material name="white"/>
    </visual>
    <inertial>
      <mass value="2.66"/>
      <inertia ixx="0.00484214" ixy="0.00000117" ixz="-0.00000044" iyy="0.00444297" iyz="-0.00000074" izz="0.00427071"/>
      <origin rpy="0 0 0" xyz="1.6e-05 -0.0006979999999999999 0.168185"/>
    </inertial>
    <collision>
      <geometry>
        <mesh filename="package://robot_model/meshes/AR5_P_R/AR5_5_07R_base.stl" scale="0.001 0.001 0.001"/>
      </geometry>
      <origin rpy="0 0 0" xyz="0.0 0.0 0.0"/>
    </collision>
  </link>
  <joint name="AR5_5_07R_joint_1" type="revolute">
    <parent link="AR5_5_07R_base"/>
    <child link="AR5_5_07R_link1"/>
    <limit effort="108" lower="-3.07" upper="3.07" velocity="3.490658503988659"/>
    <axis xyz="0 0 1"/>
    <origin rpy="0 0 0" xyz="0.0 0.0 0.0"/>
  </joint>
  <transmission name="rtran1">
    <type>transmission_interface/SimpleTransmission</type>
    <joint name="AR5_5_07R_joint_1">
      <hardwareInterface>EffortJointInterface</hardwareInterface>
    </joint>
    <actuator name="rmotor1">
      <hardwareInterface>EffortJointInterface</hardwareInterface>
      <mechanicalReduction>1</mechanicalReduction>
    </actuator>
  </transmission>
  <!--link 1-->
  <link name="AR5_5_07R_link1">
    <visual>
      <geometry>
        <mesh filename="package://robot_model/meshes/AR5_P_R/AR5_5_07R_link1.stl" scale="0.001 0.001 0.001"/>
      </geometry>
      <origin rpy="0 0 0" xyz="0 0 0"/>
      <material name="white"/>
    </visual>
    <inertial>
      <mass value="2.66"/>
      <inertia ixx="0.00484214" ixy="0.00000117" ixz="-0.00000044" iyy="0.00444297" iyz="-0.00000074" izz="0.00427071"/>
      <origin rpy="0 0 0" xyz="1.6e-05 -0.0006979999999999999 0.168185"/>
    </inertial>
    <collision>
      <geometry>
        <mesh filename="package://robot_model/meshes/AR5_P_R/AR5_5_07R_link1.stl" scale="0.001 0.001 0.001"/>
      </geometry>
      <origin rpy="0 0 0" xyz="0 0 0"/>
    </collision>
  </link>
  <joint name="AR5_5_07R_joint_2" type="revolute">
    <parent link="AR5_5_07R_link1"/>
    <child link="AR5_5_07R_link2"/>
    <limit effort="108" lower="-2.06" upper="2.06" velocity="3.490658503988659"/>
    <axis xyz="0 1 0"/>
    <origin rpy="0 0 0" xyz="0.0 0.0 0.1745"/>
  </joint>
  <transmission name="rtran2">
    <type>transmission_interface/SimpleTransmission</type>
    <joint name="AR5_5_07R_joint_2">
      <hardwareInterface>EffortJointInterface</hardwareInterface>
    </joint>
    <actuator name="rmotor2">
      <hardwareInterface>EffortJointInterface</hardwareInterface>
      <mechanicalReduction>1</mechanicalReduction>
    </actuator>
  </transmission>
  <!--link 2-->
  <link name="AR5_5_07R_link2">
    <visual>
      <geometry>
        <mesh filename="package://robot_model/meshes/AR5_P_R/AR5_5_07R_link2.stl" scale="0.001 0.001 0.001"/>
      </geometry>
      <origin rpy="0 0 0" xyz="0 0 0.0"/>
      <material name="white"/>
    </visual>
    <inertial>
      <mass value="2.3"/>
      <inertia ixx="0.01155422" ixy="0.00000028" ixz="-0.00000103" iyy="0.00995119" iyz="0.00083831" izz="0.00437076"/>
      <origin rpy="0 0 0" xyz="4.4999999999999996e-05 -0.002985 0.102801"/>
    </inertial>
    <collision>
      <geometry>
        <mesh filename="package://robot_model/meshes/AR5_P_R/AR5_5_07R_link2.stl" scale="0.001 0.001 0.001"/>
      </geometry>
      <origin rpy="0 0 0" xyz="0 0 0.0"/>
    </collision>
  </link>
  <joint name="AR5_5_07R_joint_3" type="revolute">
    <parent link="AR5_5_07R_link2"/>
    <child link="AR5_5_07R_link3"/>
    <limit effort="66" lower="-3.07" upper="3.07" velocity="4.71238898038469"/>
    <axis xyz="0 0 1"/>
    <origin rpy="0 0 0" xyz="0.0 0.0 0.314"/>
  </joint>
  <transmission name="rtran3">
    <type>transmission_interface/SimpleTransmission</type>
    <joint name="AR5_5_07R_joint_3">
      <hardwareInterface>EffortJointInterface</hardwareInterface>
    </joint>
    <actuator name="rmotor3">
      <hardwareInterface>EffortJointInterface</hardwareInterface>
      <mechanicalReduction>1</mechanicalReduction>
    </actuator>
  </transmission>
  <!--link 3-->
  <link name="AR5_5_07R_link3">
    <visual>
      <geometry>
        <mesh filename="package://robot_model/meshes/AR5_P_R/AR5_5_07R_link3.stl" scale="0.001 0.001 0.001"/>
      </geometry>
      <origin rpy="0 0 0" xyz="0 0 0"/>
      <material name="white"/>
    </visual>
    <inertial>
      <mass value="1.8"/>
      <inertia ixx="0.00478231" ixy="0.00001317" ixz="0.00033105" iyy="0.00432575" iyz="0.00002132" izz="0.00254969"/>
      <origin rpy="0 0 0" xyz="0.0073 -0.001371 -0.01502"/>
    </inertial>
    <collision>
      <geometry>
        <mesh filename="package://robot_model/meshes/AR5_P_R/AR5_5_07R_link3.stl" scale="0.001 0.001 0.001"/>
      </geometry>
      <origin rpy="0 0 0" xyz="0 0 0"/>
    </collision>
  </link>
  <joint name="AR5_5_07R_joint_4" type="revolute">
    <parent link="AR5_5_07R_link3"/>
    <child link="AR5_5_07R_link4"/>
    <limit effort="66" lower="-1.01" upper="2.5" velocity="5.235987755982989"/>
    <!--     lower="-1.0472" upper="1.0472" -->
    <axis xyz="0 1 0"/>
    <!--     <origin rpy="0 0 0" xyz=0.0105 0.0 0.0/> -->
    <origin rpy="0 0 0" xyz="0.0105 0.0 0.0"/>
  </joint>
  <transmission name="rtran4">
    <type>transmission_interface/SimpleTransmission</type>
    <joint name="AR5_5_07R_joint_4">
      <hardwareInterface>EffortJointInterface</hardwareInterface>
    </joint>
    <actuator name="rmotor4">
      <hardwareInterface>EffortJointInterface</hardwareInterface>
      <mechanicalReduction>1</mechanicalReduction>
    </actuator>
  </transmission>
  <!--link 4-->
  <link name="AR5_5_07R_link4">
    <visual>
      <geometry>
        <mesh filename="package://robot_model/meshes/AR5_P_R/AR5_5_07R_link4.stl" scale=".001 0.001 0.001"/>
      </geometry>
      <origin rpy="0 0 0" xyz="0.0 0.0 0.0"/>
      <material name="white"/>
    </visual>
    <inertial>
      <mass value="1.13"/>
      <inertia ixx="0.00352152" ixy="-0.00002411" ixz="-0.00015046" iyy="0.00266275" iyz="0.00025447" izz="0.00186915"/>
      <origin rpy="0 0 0" xyz="-0.007816 -0.002536 0.066782"/>
    </inertial>
    <collision>
      <geometry>
        <mesh filename="package://robot_model/meshes/AR5_P_R/AR5_5_07R_link4.stl" scale="0.001 0.001 0.001"/>
      </geometry>
      <origin rpy="0 0 0" xyz="0.0 0.0 0.0"/>
    </collision>
  </link>
  <joint name="AR5_5_07R_joint_5" type="revolute">
    <parent link="AR5_5_07R_link4"/>
    <child link="AR5_5_07R_link5"/>
    <limit effort="19" lower="-3.07" upper="3.07" velocity="4.1887902047863905"/>
    <axis xyz="0 0 1"/>
    <origin rpy="0 0 0" xyz="-0.0105 0.0 0.26"/>
  </joint>
  <transmission name="rtran5">
    <type>transmission_interface/SimpleTransmission</type>
    <joint name="AR5_5_07R_joint_5">
      <hardwareInterface>EffortJointInterface</hardwareInterface>
    </joint>
    <actuator name="rmotor5">
      <hardwareInterface>EffortJointInterface</hardwareInterface>
      <mechanicalReduction>1</mechanicalReduction>
    </actuator>
  </transmission>
  <!--link 5-->
  <link name="AR5_5_07R_link5">
    <visual>
      <geometry>
        <mesh filename="package://robot_model/meshes/AR5_P_R/AR5_5_07R_link5.stl" scale="0.001 0.001 0.001"/>
      </geometry>
      <origin rpy="0 0 0" xyz="0 0 0"/>
      <material name="white"/>
    </visual>
    <inertial>
      <mass value="1.19"/>
      <inertia ixx="0.00239004" ixy="-0.00000866" ixz="0.00001606" iyy="0.00196096" iyz="-0.00001370" izz="0.00150238"/>
      <origin rpy="0 0 0" xyz="0.00022600000000000002 -0.002462 -0.081161"/>
    </inertial>
    <collision>
      <geometry>
        <mesh filename="package://robot_model/meshes/AR5_P_R/AR5_5_07R_link5.stl" scale="0.001 0.001 0.001"/>
      </geometry>
      <origin rpy="0 0 0" xyz="0 0 0"/>
    </collision>
  </link>
  <joint name="AR5_5_07R_joint_6" type="revolute">
    <parent link="AR5_5_07R_link5"/>
    <child link="AR5_5_07R_link6"/>
    <limit effort="19" lower="-1.01" upper="1.01" velocity="4.1887902047863905"/>
    <axis xyz="0 1 0"/>
    <origin rpy="0.0 0.0 0" xyz="0.0 0.0 0.0"/>
  </joint>
  <transmission name="rtran6">
    <type>transmission_interface/SimpleTransmission</type>
    <joint name="AR5_5_07R_joint_6">
      <hardwareInterface>EffortJointInterface</hardwareInterface>
    </joint>
    <actuator name="rmotor6">
      <hardwareInterface>EffortJointInterface</hardwareInterface>
      <mechanicalReduction>1</mechanicalReduction>
    </actuator>
  </transmission>
  <!--link 6-->
  <link name="AR5_5_07R_link6">
    <visual>
      <geometry>
        <mesh filename="package://robot_model/meshes/AR5_P_R/AR5_5_07R_link6.stl" scale="0.001 0.001 0.001"/>
      </geometry>
      <origin rpy="0 0 0" xyz="0 0 0"/>
      <material name="white"/>
    </visual>
    <inertial>
      <mass value="0.82"/>
      <inertia ixx="0.00060720" ixy="0.00000824" ixz="-0.00000087" iyy="0.00066149" iyz="0.00000017" izz="0.00066643"/>
      <origin rpy="0 0 0" xyz="0.0070940000000000005 -0.000714 4.2000000000000004e-05"/>
    </inertial>
    <collision>
      <geometry>
        <mesh filename="package://robot_model/meshes/AR5_P_R/AR5_5_07R_link6.stl" scale="0.001 0.001 0.001"/>
      </geometry>
      <origin rpy="0 0 0" xyz="0 0 0"/>
    </collision>
  </link>
  <joint name="AR5_5_07R_joint_7" type="revolute">
    <parent link="AR5_5_07R_link6"/>
    <child link="AR5_5_07R_link7"/>
    <limit effort="19" lower="-1.01" upper="1.01" velocity="4.1887902047863905"/>
    <axis xyz="1 0 0"/>
    <origin rpy="0.0 0.0 0" xyz="0.0 0.0 0.0"/>
  </joint>
  <transmission name="rtran7">
    <type>transmission_interface/SimpleTransmission</type>
    <joint name="AR5_5_07R_joint_7">
      <hardwareInterface>EffortJointInterface</hardwareInterface>
    </joint>
    <actuator name="rmotor7">
      <hardwareInterface>EffortJointInterface</hardwareInterface>
      <mechanicalReduction>1</mechanicalReduction>
    </actuator>
  </transmission>
  <!--link 7-->
  <link name="AR5_5_07R_link7">
    <visual>
      <geometry>
        <mesh filename="package://robot_model/meshes/AR5_P_R/AR5_5_07R_link7.stl" scale="0.001 0.001 0.001"/>
      </geometry>
      <origin rpy="0 0 0" xyz="0.0 0.0 0.0"/>
      <material name="white"/>
    </visual>
    <inertial>
      <mass value="0.32"/>
      <inertia ixx="0.00043649" ixy="0.00000037" ixz="0.00001247" iyy="0.00067127" iyz="0.00000047" izz="0.00041742"/>
      <origin rpy="0 0 0" xyz="-0.002337 6e-06 0.051713999999999996"/>
    </inertial>
    <collision>
      <geometry>
        <mesh filename="package://robot_model/meshes/AR5_P_R/AR5_5_07R_link7.stl" scale="0.001 0.001 0.001"/>
      </geometry>
      <origin rpy="0 0 0" xyz="0.0 0.0 0.0"/>
    </collision>
  </link>
  <joint name="AR5_5_07R_tcp_joint" type="fixed">
    <parent link="AR5_5_07R_link7"/>
    <child link="AR5_5_07R_tcp"/>
    <origin rpy="0 0 0" xyz="0.0 0.0 0.092"/>
  </joint>
  <link name="AR5_5_07R_tcp">
    <inertial>
      <mass value="0.0"/>
      <inertia ixx="1e-6" ixy="0" ixz="0" iyy="1e-6" iyz="0" izz="1e-6"/>
    </inertial>
  </link>

  <!-- 左力传感器+夹爪部分 -->
  <joint name="left_flange_base_joint" type="fixed">
    <parent link="AR5_5_07L_tcp"/>
    <child link="left_flange_link"/>
    <origin xyz= "0 0.0 0.005" rpy = "0 0 0"/>
  </joint>
  <link name="left_flange_link">
    <visual>
      <geometry>
        <mesh filename="package://robot_model/meshes/flange.STL" scale="1 1 1"/>
      </geometry>
      <origin rpy="0 0 0" xyz="0 0 0"/>
      <material name="grey">
        <color rgba="0.5 0.5 0.5 1"/>
      </material>
    </visual>
    <inertial>
      <mass value="0.2"/>
      <inertia ixx="0.0005" ixy="0" ixz="0" iyy="0.0005" iyz="0" izz="0.0005"/>
      <origin rpy="0 0 0" xyz="0 0 0"/>
    </inertial>
    <collision>
      <geometry>
        <mesh filename="package://robot_model/meshes/flange.STL" scale="1 1 1"/>
      </geometry>
      <origin rpy="0 0 0" xyz="0 0 0"/>
    </collision>
  </link>

  <joint name="left_gripper_base_joint" type="fixed">
    <parent link="left_flange_link"/>
    <child link="Lbase_link"/>
    <origin xyz= "0 0 0.0375" rpy = "0 0 0"/>
  </joint>
  <link name="Lbase_link">
    <inertial>
      <origin rpy="0 0 0" xyz="-3.5971E-08 6.1102E-06 0.055353"/>
      <mass value="0.47237"/>
      <inertia ixx="0.00054317" ixy="-9.222E-09" ixz="2.4709E-09" iyy="0.00068105" iyz="-1.5078E-07" izz="0.00038996"/>
    </inertial>
    <visual>
      <origin rpy="0 0 0" xyz="0 0 0"/>
      <geometry>
        <mesh filename="package://robot_model/meshes/CTM_2F_110/base_link.STL"/>
      </geometry>
      <material name="">
        <color rgba="0.10196 0.10196 0.10196 1"/>
      </material>
    </visual>
    <collision>
      <origin rpy="0 0 0" xyz="0 0 0"/>
      <geometry>
        <mesh filename="package://robot_model/meshes/CTM_2F_110/base_link.STL"/>
      </geometry>
    </collision>
  </link>
  <link name="Lleftout_Link">
    <inertial>
      <origin rpy="0 0 0" xyz="-0.0068505 0.028833 -8.8224E-08"/>
      <mass value="0.010089"/>
      <inertia ixx="3.7101E-06" ixy="6.4157E-07" ixz="9.3979E-12" iyy="1.1175E-06" iyz="-4.9338E-11" izz="3.12E-06"/>
    </inertial>
    <visual>
      <origin rpy="0 0 0" xyz="0 0 0"/>
      <geometry>
        <mesh filename="package://robot_model/meshes/CTM_2F_110/leftout_Link.STL"/>
      </geometry>
      <material name="">
        <color rgba="0.66667 0.69804 0.76863 1"/>
      </material>
    </visual>
    <collision>
      <origin rpy="0 0 0" xyz="0 0 0"/>
      <geometry>
        <mesh filename="package://robot_model/meshes/CTM_2F_110/leftout_Link.STL"/>
      </geometry>
    </collision>
  </link>
  <link name="Lleftinn_Link">
    <inertial>
      <origin rpy="0 0 0" xyz="-0.030058 0.022769 5.1949E-07"/>
      <mass value="0.018332"/>
      <inertia ixx="6.7469E-06" ixy="3.6682E-06" ixz="9.1466E-11" iyy="3.9665E-06" iyz="-4.1418E-10" izz="9.6683E-06"/>
    </inertial>
    <visual>
      <origin rpy="0 0 0" xyz="0 0 0"/>
      <geometry>
        <mesh filename="package://robot_model/meshes/CTM_2F_110/leftinn_Link.STL"/>
      </geometry>
      <material name="">
        <color rgba="0.79216 0.81961 0.93333 1"/>
      </material>
    </visual>
    <collision>
      <origin rpy="0 0 0" xyz="0 0 0"/>
      <geometry>
        <mesh filename="package://robot_model/meshes/CTM_2F_110/leftinn_Link.STL"/>
      </geometry>
    </collision>
  </link>
  <link name="Lleft_pad">
    <inertial>
      <origin rpy="0 0 0" xyz="0.013913 -0.019134 4.0039E-06"/>
      <mass value="0.018332"/>
      <inertia ixx="6.7469E-06" ixy="3.6682E-06" ixz="8.8651E-11" iyy="3.9665E-06" iyz="-4.0981E-10" izz="9.6683E-06"/>
    </inertial>
    <visual>
      <origin rpy="0 0 0" xyz="0 0 0"/>
      <geometry>
        <mesh filename="package://robot_model/meshes/CTM_2F_110/left_pad.STL"/>
      </geometry>
      <material name="">
        <color rgba="0.79216 0.81961 0.93333 1"/>
      </material>
    </visual>
    <collision>
      <origin rpy="0 0 0" xyz="0 0 0"/>
      <geometry>
        <mesh filename="package://robot_model/meshes/CTM_2F_110/left_pad.STL"/>
      </geometry>
    </collision>
  </link>
  <link name="Lleft_kckle">
    <inertial>
      <origin rpy="0 0 0" xyz="-0.0057173 0.023663 -3.1623E-06"/>
      <mass value="0.012137"/>
      <inertia ixx="1.086E-05" ixy="1.05E-06" ixz="6.9749E-10" iyy="6.7673E-06" iyz="-7.7731E-10" izz="5.0823E-06"/>
    </inertial>
    <visual>
      <origin rpy="0 0 0" xyz="0 0 0"/>
      <geometry>
        <mesh filename="package://robot_model/meshes/CTM_2F_110/left_kckle.STL"/>
      </geometry>
      <material name="">
        <color rgba="0.2 0.2 0.2 1"/>
      </material>
    </visual>
    <collision>
      <origin rpy="0 0 0" xyz="0 0 0"/>
      <geometry>
        <mesh filename="package://robot_model/meshes/CTM_2F_110/left_kckle.STL"/>
      </geometry>
    </collision>
  </link>
  <link name="Lrightout_Link">
    <inertial>
      <origin rpy="0 0 0" xyz="-0.0068505 0.028833 -8.8224E-08"/>
      <mass value="0.010089"/>
      <inertia ixx="3.7101E-06" ixy="6.4157E-07" ixz="9.3979E-12" iyy="1.1175E-06" iyz="-4.9338E-11" izz="3.12E-06"/>
    </inertial>
    <visual>
      <origin rpy="0 0 0" xyz="0 0 0"/>
      <geometry>
        <mesh filename="package://robot_model/meshes/CTM_2F_110/rightout_Link.STL"/>
      </geometry>
      <material name="">
        <color rgba="0.66667 0.69804 0.76863 1"/>
      </material>
    </visual>
    <collision>
      <origin rpy="0 0 0" xyz="0 0 0"/>
      <geometry>
        <mesh filename="package://robot_model/meshes/CTM_2F_110/rightout_Link.STL"/>
      </geometry>
    </collision>
  </link>
  <link name="Lrightinn_Link">
    <inertial>
      <origin rpy="0 0 0" xyz="-0.030058 0.022769 5.1949E-07"/>
      <mass value="0.018332"/>
      <inertia ixx="6.7469E-06" ixy="3.6682E-06" ixz="9.1466E-11" iyy="3.9665E-06" iyz="-4.1418E-10" izz="9.6683E-06"/>
    </inertial>
    <visual>
      <origin rpy="0 0 0" xyz="0 0 0"/>
      <geometry>
        <mesh filename="package://robot_model/meshes/CTM_2F_110/rightinn_Link.STL"/>
      </geometry>
      <material name="">
        <color rgba="0.79216 0.81961 0.93333 1"/>
      </material>
    </visual>
    <collision>
      <origin rpy="0 0 0" xyz="0 0 0"/>
      <geometry>
        <mesh filename="package://robot_model/meshes/CTM_2F_110/rightinn_Link.STL"/>
      </geometry>
    </collision>
  </link>
  <link name="Lright_pad">
    <inertial>
      <origin rpy="0 0 0" xyz="0.013913 -0.019134 4.0039E-06"/>
      <mass value="0.018332"/>
      <inertia ixx="6.7469E-06" ixy="3.6682E-06" ixz="8.8651E-11" iyy="3.9665E-06" iyz="-4.0981E-10" izz="9.6683E-06"/>
    </inertial>
    <visual>
      <origin rpy="0 0 0" xyz="0 0 0"/>
      <geometry>
        <mesh filename="package://robot_model/meshes/CTM_2F_110/right_pad.STL"/>
      </geometry>
      <material name="">
        <color rgba="0.79216 0.81961 0.93333 1"/>
      </material>
    </visual>
    <collision>
      <origin rpy="0 0 0" xyz="0 0 0"/>
      <geometry>
        <mesh filename="package://robot_model/meshes/CTM_2F_110/right_pad.STL"/>
      </geometry>
    </collision>
  </link>
  <link name="Lright_kckle">
    <inertial>
      <origin rpy="0 0 0" xyz="-0.0057173 0.023663 -3.1623E-06"/>
      <mass value="0.012137"/>
      <inertia ixx="1.086E-05" ixy="1.05E-06" ixz="6.9749E-10" iyy="6.7673E-06" iyz="-7.7731E-10" izz="5.0823E-06"/>
    </inertial>
    <visual>
      <origin rpy="0 0 0" xyz="0 0 0"/>
      <geometry>
        <mesh filename="package://robot_model/meshes/CTM_2F_110/right_kckle.STL"/>
      </geometry>
      <material name="">
        <color rgba="0.2 0.2 0.2 1"/>
      </material>
    </visual>
    <collision>
      <origin rpy="0 0 0" xyz="0 0 0"/>
      <geometry>
        <mesh filename="package://robot_model/meshes/CTM_2F_110/right_kckle.STL"/>
      </geometry>
    </collision>
  </link>
  <joint name="Lfinger_joint" type="revolute">
    <origin rpy="1.5708 0 -3.1416" xyz="-0.057 0 0.07825"/>
    <parent link="Lbase_link"/>
    <child link="Lleftout_Link"/>
    <axis xyz="0 0 -1"/>
    <limit effort="1000" lower="0" upper="1" velocity="2.0"/>
    <dynamics damping="2.0" friction="50.0" />
  </joint>
  <joint name="Lleft_kckle_joint" type="revolute">
    <origin rpy="1.5707963267948966 0 -3.141592653589793" xyz="-0.024 0 0.09025"/>
    <parent link="Lbase_link"/>
    <child link="Lleft_kckle"/>
    <axis xyz="0 0 -1"/>
    <limit effort="1000" lower="-1" upper="1" velocity="2.0"/>
    <mimic joint="Lfinger_joint" multiplier="1" offset="0"/>
    <dynamics damping="2.0" friction="50.0" />
  </joint>
  <joint name="Lleftinn_joint" type="revolute">
    <origin rpy="0 0 0" xyz="-0.010946 0.0539 0"/>
    <parent link="Lleftout_Link"/>
    <child link="Lleftinn_Link"/>
    <axis xyz="0 0 -1"/>
    <limit effort="1000" lower="-1" upper="0" velocity="2.0"/>
    <mimic joint="Lfinger_joint" multiplier="-1" offset="0"/>
    <dynamics damping="2.0" friction="50.0" />
  </joint>
  <joint name="Lleft_pad_joint" type="fixed">
    <origin rpy="0 0 0" xyz="-0.04597 0.041903 0"/>
    <parent link="Lleftinn_Link"/>
    <child link="Lleft_pad"/>
    <axis xyz="0 0 0"/>
  </joint>
  <joint name="Lrightout_joint" type="revolute">
    <origin rpy="1.5708 0 0" xyz="0.057 0 0.07825"/>
    <parent link="Lbase_link"/>
    <child link="Lrightout_Link"/>
    <axis xyz="0 0 -1"/>
    <limit effort="1000" lower="0" upper="1" velocity="2.0"/>
    <mimic joint="Lfinger_joint" multiplier="1" offset="0"/>
    <dynamics damping="2.0" friction="50.0" />
  </joint>
  <joint name="Lright_kckle_joint" type="revolute">
    <origin rpy="1.5707963267948966 0 -0.0" xyz="0.024 0 0.09025"/>
    <parent link="Lbase_link"/>
    <child link="Lright_kckle"/>
    <axis xyz="0 0 -1"/>
    <limit effort="1000" lower="-1" upper="1" velocity="2.0"/>
    <mimic joint="Lfinger_joint" multiplier="1" offset="0"/>
    <dynamics damping="2.0" friction="50.0" />
  </joint>
  <joint name="Lrightinn_joint" type="revolute">
    <origin rpy="0 0 0" xyz="-0.010946 0.0539 0"/>
    <parent link="Lrightout_Link"/>
    <child link="Lrightinn_Link"/>
    <axis xyz="0 0 -1"/>
    <limit effort="1000" lower="-1" upper="0" velocity="2.0"/>
    <mimic joint="Lfinger_joint" multiplier="-1" offset="0"/>
    <dynamics damping="2.0" friction="50.0" />
  </joint>
  <joint name="Lright_pad_joint" type="fixed">
    <origin rpy="0 0 0" xyz="-0.04597 0.041903 0"/>
    <parent link="Lrightinn_Link"/>
    <child link="Lright_pad"/>
    <axis xyz="0 0 0"/>
  </joint>


  <!-- 右力传感器+夹爪部分 -->
  <joint name="right_flange_base_joint" type="fixed">
    <parent link="AR5_5_07R_tcp"/>
    <child link="right_flange_link"/>
    <origin xyz= "0 0.0 0.005" rpy = "-1.5708 -1.5708 0"/>
  </joint>
  <link name="right_flange_link">
    <visual>
      <geometry>
        <mesh filename="package://robot_model/meshes/flange.dae" scale="1 1 1"/>
      </geometry>
      <origin rpy="0 0 0" xyz="0 0 0"/>
      <material name="grey">
        <color rgba="0.5 0.5 0.5 1"/>
      </material>
    </visual>
    <inertial>
      <mass value="0.2"/>
      <inertia ixx="0.0005" ixy="0" ixz="0" iyy="0.0005" iyz="0" izz="0.0005"/>
      <origin rpy="0 0 0" xyz="0 0 0"/>
    </inertial>
    <collision>
      <geometry>
        <mesh filename="package://robot_model/meshes/flange.dae" scale="1 1 1"/>
      </geometry>
      <origin rpy="0 0 0" xyz="0 0 0"/>
    </collision>
  </link>

  <joint name="right_gripper_base_joint" type="fixed">
    <parent link="right_flange_link"/>
    <child link="Rbase_link"/>
    <origin xyz= "0.036 0.0 0.0" rpy = "-1.5708 0 -1.5708"/>
  </joint>
  <link name="Rbase_link">
    <inertial>
      <origin rpy="0 0 0" xyz="-3.5971E-08 6.1102E-06 0.055353"/>
      <mass value="0.47237"/>
      <inertia ixx="0.00054317" ixy="-9.222E-09" ixz="2.4709E-09" iyy="0.00068105" iyz="-1.5078E-07" izz="0.00038996"/>
    </inertial>
    <visual>
      <origin rpy="0 0 0" xyz="0 0 0"/>
      <geometry>
        <mesh filename="package://robot_model/meshes/CTM_2F_110/base_link.STL"/>
      </geometry>
      <material name="">
        <color rgba="0.10196 0.10196 0.10196 1"/>
      </material>
    </visual>
    <collision>
      <origin rpy="0 0 0" xyz="0 0 0"/>
      <geometry>
        <mesh filename="package://robot_model/meshes/CTM_2F_110/base_link.STL"/>
      </geometry>
    </collision>
  </link>
  <link name="Rleftout_Link">
    <inertial>
      <origin rpy="0 0 0" xyz="-0.0068505 0.028833 -8.8224E-08"/>
      <mass value="0.010089"/>
      <inertia ixx="3.7101E-06" ixy="6.4157E-07" ixz="9.3979E-12" iyy="1.1175E-06" iyz="-4.9338E-11" izz="3.12E-06"/>
    </inertial>
    <visual>
      <origin rpy="0 0 0" xyz="0 0 0"/>
      <geometry>
        <mesh filename="package://robot_model/meshes/CTM_2F_110/leftout_Link.STL"/>
      </geometry>
      <material name="">
        <color rgba="0.66667 0.69804 0.76863 1"/>
      </material>
    </visual>
    <collision>
      <origin rpy="0 0 0" xyz="0 0 0"/>
      <geometry>
        <mesh filename="package://robot_model/meshes/CTM_2F_110/leftout_Link.STL"/>
      </geometry>
    </collision>
  </link>
  <link name="Rleftinn_Link">
    <inertial>
      <origin rpy="0 0 0" xyz="-0.030058 0.022769 5.1949E-07"/>
      <mass value="0.018332"/>
      <inertia ixx="6.7469E-06" ixy="3.6682E-06" ixz="9.1466E-11" iyy="3.9665E-06" iyz="-4.1418E-10" izz="9.6683E-06"/>
    </inertial>
    <visual>
      <origin rpy="0 0 0" xyz="0 0 0"/>
      <geometry>
        <mesh filename="package://robot_model/meshes/CTM_2F_110/leftinn_Link.STL"/>
      </geometry>
      <material name="">
        <color rgba="0.79216 0.81961 0.93333 1"/>
      </material>
    </visual>
    <collision>
      <origin rpy="0 0 0" xyz="0 0 0"/>
      <geometry>
        <mesh filename="package://robot_model/meshes/CTM_2F_110/leftinn_Link.STL"/>
      </geometry>
    </collision>
  </link>
  <link name="Rleft_pad">
    <inertial>
      <origin rpy="0 0 0" xyz="0.013913 -0.019134 4.0039E-06"/>
      <mass value="0.018332"/>
      <inertia ixx="6.7469E-06" ixy="3.6682E-06" ixz="8.8651E-11" iyy="3.9665E-06" iyz="-4.0981E-10" izz="9.6683E-06"/>
    </inertial>
    <visual>
      <origin rpy="0 0 0" xyz="0 0 0"/>
      <geometry>
        <mesh filename="package://robot_model/meshes/CTM_2F_110/left_pad.STL"/>
      </geometry>
      <material name="">
        <color rgba="0.79216 0.81961 0.93333 1"/>
      </material>
    </visual>
    <collision>
      <origin rpy="0 0 0" xyz="0 0 0"/>
      <geometry>
        <mesh filename="package://robot_model/meshes/CTM_2F_110/left_pad.STL"/>
      </geometry>
    </collision>
  </link>
  <link name="Rleft_kckle">
    <inertial>
      <origin rpy="0 0 0" xyz="-0.0057173 0.023663 -3.1623E-06"/>
      <mass value="0.012137"/>
      <inertia ixx="1.086E-05" ixy="1.05E-06" ixz="6.9749E-10" iyy="6.7673E-06" iyz="-7.7731E-10" izz="5.0823E-06"/>
    </inertial>
    <visual>
      <origin rpy="0 0 0" xyz="0 0 0"/>
      <geometry>
        <mesh filename="package://robot_model/meshes/CTM_2F_110/left_kckle.STL"/>
      </geometry>
      <material name="">
        <color rgba="0.2 0.2 0.2 1"/>
      </material>
    </visual>
    <collision>
      <origin rpy="0 0 0" xyz="0 0 0"/>
      <geometry>
        <mesh filename="package://robot_model/meshes/CTM_2F_110/left_kckle.STL"/>
      </geometry>
    </collision>
  </link>
  <link name="Rrightout_Link">
    <inertial>
      <origin rpy="0 0 0" xyz="-0.0068505 0.028833 -8.8224E-08"/>
      <mass value="0.010089"/>
      <inertia ixx="3.7101E-06" ixy="6.4157E-07" ixz="9.3979E-12" iyy="1.1175E-06" iyz="-4.9338E-11" izz="3.12E-06"/>
    </inertial>
    <visual>
      <origin rpy="0 0 0" xyz="0 0 0"/>
      <geometry>
        <mesh filename="package://robot_model/meshes/CTM_2F_110/rightout_Link.STL"/>
      </geometry>
      <material name="">
        <color rgba="0.66667 0.69804 0.76863 1"/>
      </material>
    </visual>
    <collision>
      <origin rpy="0 0 0" xyz="0 0 0"/>
      <geometry>
        <mesh filename="package://robot_model/meshes/CTM_2F_110/rightout_Link.STL"/>
      </geometry>
    </collision>
  </link>
  <link name="Rrightinn_Link">
    <inertial>
      <origin rpy="0 0 0" xyz="-0.030058 0.022769 5.1949E-07"/>
      <mass value="0.018332"/>
      <inertia ixx="6.7469E-06" ixy="3.6682E-06" ixz="9.1466E-11" iyy="3.9665E-06" iyz="-4.1418E-10" izz="9.6683E-06"/>
    </inertial>
    <visual>
      <origin rpy="0 0 0" xyz="0 0 0"/>
      <geometry>
        <mesh filename="package://robot_model/meshes/CTM_2F_110/rightinn_Link.STL"/>
      </geometry>
      <material name="">
        <color rgba="0.79216 0.81961 0.93333 1"/>
      </material>
    </visual>
    <collision>
      <origin rpy="0 0 0" xyz="0 0 0"/>
      <geometry>
        <mesh filename="package://robot_model/meshes/CTM_2F_110/rightinn_Link.STL"/>
      </geometry>
    </collision>
  </link>
  <link name="Rright_pad">
    <inertial>
      <origin rpy="0 0 0" xyz="0.013913 -0.019134 4.0039E-06"/>
      <mass value="0.018332"/>
      <inertia ixx="6.7469E-06" ixy="3.6682E-06" ixz="8.8651E-11" iyy="3.9665E-06" iyz="-4.0981E-10" izz="9.6683E-06"/>
    </inertial>
    <visual>
      <origin rpy="0 0 0" xyz="0 0 0"/>
      <geometry>
        <mesh filename="package://robot_model/meshes/CTM_2F_110/right_pad.STL"/>
      </geometry>
      <material name="">
        <color rgba="0.79216 0.81961 0.93333 1"/>
      </material>
    </visual>
    <collision>
      <origin rpy="0 0 0" xyz="0 0 0"/>
      <geometry>
        <mesh filename="package://robot_model/meshes/CTM_2F_110/right_pad.STL"/>
      </geometry>
    </collision>
  </link>
  <link name="Rright_kckle">
    <inertial>
      <origin rpy="0 0 0" xyz="-0.0057173 0.023663 -3.1623E-06"/>
      <mass value="0.012137"/>
      <inertia ixx="1.086E-05" ixy="1.05E-06" ixz="6.9749E-10" iyy="6.7673E-06" iyz="-7.7731E-10" izz="5.0823E-06"/>
    </inertial>
    <visual>
      <origin rpy="0 0 0" xyz="0 0 0"/>
      <geometry>
        <mesh filename="package://robot_model/meshes/CTM_2F_110/right_kckle.STL"/>
      </geometry>
      <material name="">
        <color rgba="0.2 0.2 0.2 1"/>
      </material>
    </visual>
    <collision>
      <origin rpy="0 0 0" xyz="0 0 0"/>
      <geometry>
        <mesh filename="package://robot_model/meshes/CTM_2F_110/right_kckle.STL"/>
      </geometry>
    </collision>
  </link>
  <joint name="Rfinger_joint" type="revolute">
    <origin rpy="1.5708 0 -3.1416" xyz="-0.057 0 0.07825"/>
    <parent link="Rbase_link"/>
    <child link="Rleftout_Link"/>
    <axis xyz="0 0 -1"/>
    <limit effort="1000" lower="0" upper="1" velocity="2.0"/>
    <dynamics damping="2.0" friction="50.0" />
  </joint>
  <joint name="Rleft_kckle_joint" type="revolute">
    <origin rpy="1.5707963267948966 0 -3.141592653589793" xyz="-0.024 0 0.09025"/>
    <parent link="Rbase_link"/>
    <child link="Rleft_kckle"/>
    <axis xyz="0 0 -1"/>
    <limit effort="1000" lower="-1" upper="1" velocity="2.0"/>
    <mimic joint="Rfinger_joint" multiplier="1" offset="0"/>
    <dynamics damping="2.0" friction="50.0" />
  </joint>
  <joint name="Rleftinn_joint" type="revolute">
    <origin rpy="0 0 0" xyz="-0.010946 0.0539 0"/>
    <parent link="Rleftout_Link"/>
    <child link="Rleftinn_Link"/>
    <axis xyz="0 0 -1"/>
    <limit effort="1000" lower="-1" upper="0" velocity="2.0"/>
    <mimic joint="Rfinger_joint" multiplier="-1" offset="0"/>
    <dynamics damping="2.0" friction="50.0" />
  </joint>
  <joint name="Rleft_pad_joint" type="fixed">
    <origin rpy="0 0 0" xyz="-0.04597 0.041903 0"/>
    <parent link="Rleftinn_Link"/>
    <child link="Rleft_pad"/>
    <axis xyz="0 0 0"/>
  </joint>
  <joint name="Rrightout_joint" type="revolute">
    <origin rpy="1.5708 0 0" xyz="0.057 0 0.07825"/>
    <parent link="Rbase_link"/>
    <child link="Rrightout_Link"/>
    <axis xyz="0 0 -1"/>
    <limit effort="1000" lower="0" upper="1" velocity="2.0"/>
    <mimic joint="Rfinger_joint" multiplier="1" offset="0"/>
    <dynamics damping="2.0" friction="50.0" />
  </joint>
  <joint name="Rright_kckle_joint" type="revolute">
    <origin rpy="1.5707963267948966 0 -0.0" xyz="0.024 0 0.09025"/>
    <parent link="Rbase_link"/>
    <child link="Rright_kckle"/>
    <axis xyz="0 0 -1"/>
    <limit effort="1000" lower="-1" upper="1" velocity="2.0"/>
    <mimic joint="Rfinger_joint" multiplier="1" offset="0"/>
    <dynamics damping="2.0" friction="50.0" />
  </joint>
  <joint name="Rrightinn_joint" type="revolute">
    <origin rpy="0 0 0" xyz="-0.010946 0.0539 0"/>
    <parent link="Rrightout_Link"/>
    <child link="Rrightinn_Link"/>
    <axis xyz="0 0 -1"/>
    <limit effort="1000" lower="-1" upper="0" velocity="2.0"/>
    <mimic joint="Rfinger_joint" multiplier="-1" offset="0"/>
    <dynamics damping="2.0" friction="50.0" />
  </joint>
  <joint name="Rright_pad_joint" type="fixed">
    <origin rpy="0 0 0" xyz="-0.04597 0.041903 0"/>
    <parent link="Rrightinn_Link"/>
    <child link="Rright_pad"/>
    <axis xyz="0 0 0"/>
  </joint>
  
</robot>
